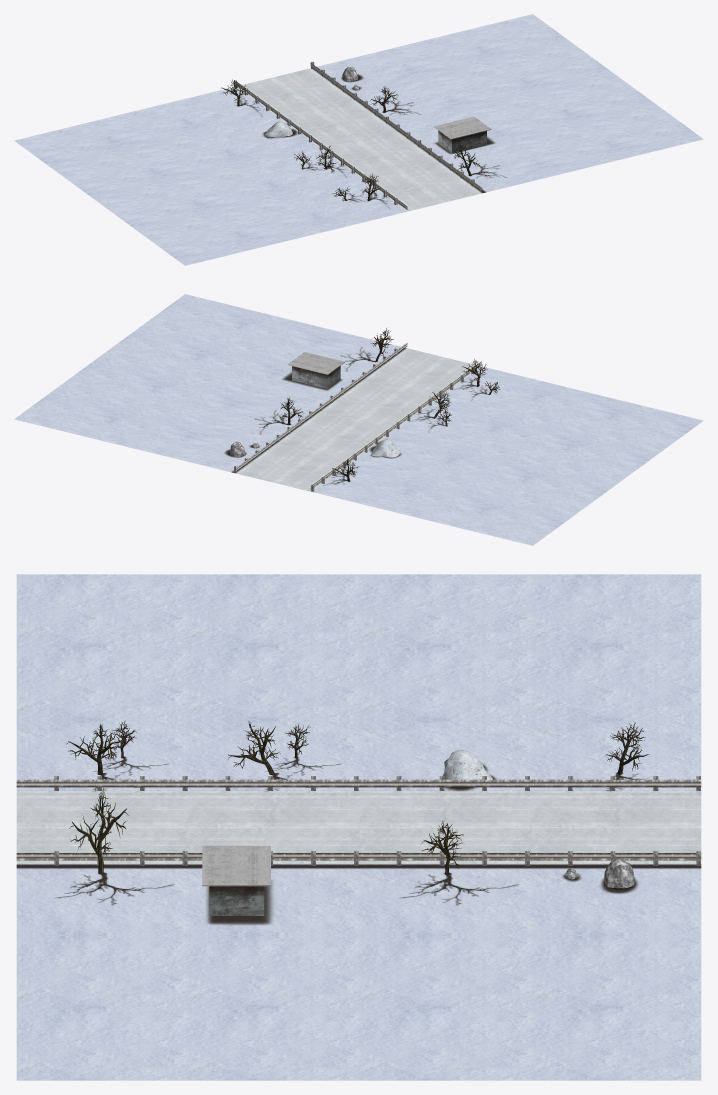
The picture shows the model from 3 angles, top to bottom: view 1: azimuth 30°, elevation 25°; view 2: azimuth 150°, elevation 25°; view 3: azimuth 270°, elevation 25°; orthographic projection. The views are drawn at different scales.
Visible parts, largest first — view 1: scene4, road011, Box043, Box044; view 2: scene4, road011, Box044, Box043; view 3: scene4, road011, Box043, Box044, Box009, rock007.
Part boxes in pixels (x1,y1,x2,y2): scene4: (14,14,703,265); road011: (234,61,481,211); Box043: (221,79,478,201); Box044: (434,116,491,153); scene4: (14,294,703,545); road011: (234,343,481,491); Box044: (287,352,344,388); Box043: (280,328,500,481); scene4: (16,574,701,1080); road011: (16,776,701,865); Box043: (66,720,649,875); Box044: (202,845,270,915); Box009: (443,750,492,779); rock007: (564,859,635,888).
Size of the model in its own units: 140 by 10.1 by 80.
